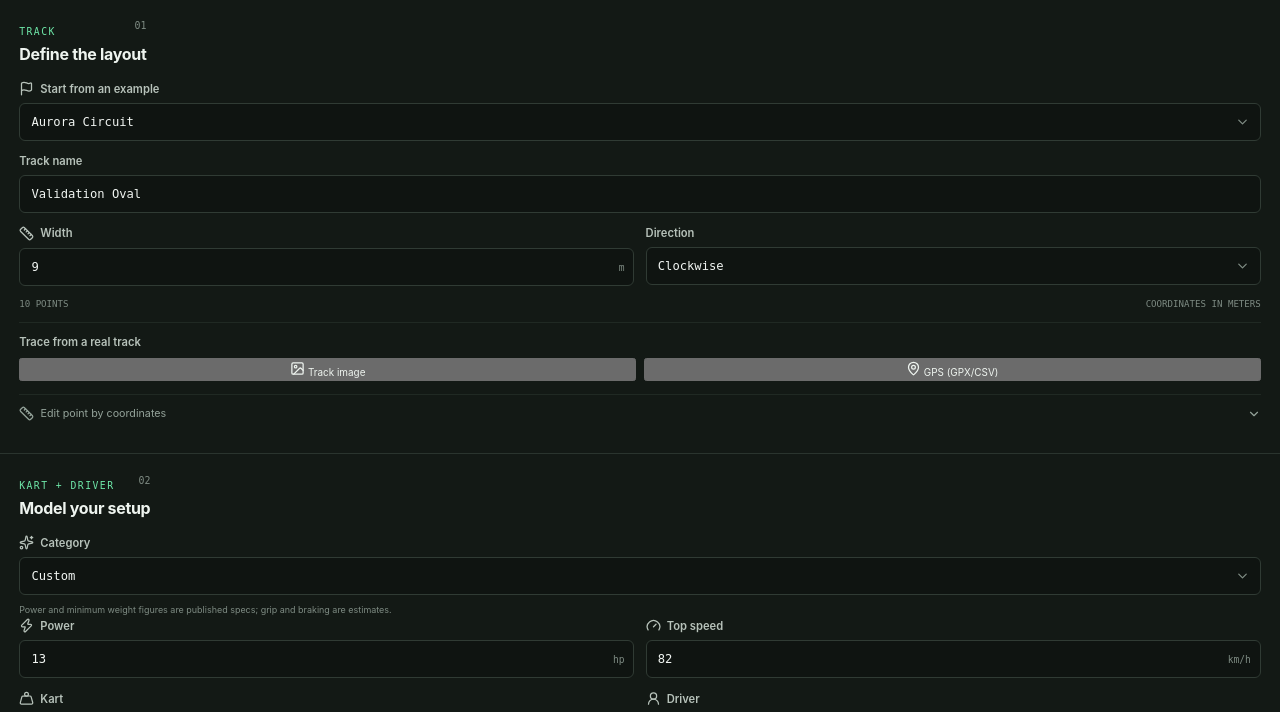
it: the keyboard point editor › walks the centreline with the arrows, and the fields follow
Click the heading "Edit point by coordinates": (103, 414) x1=19 y1=406 x2=1261 y2=421
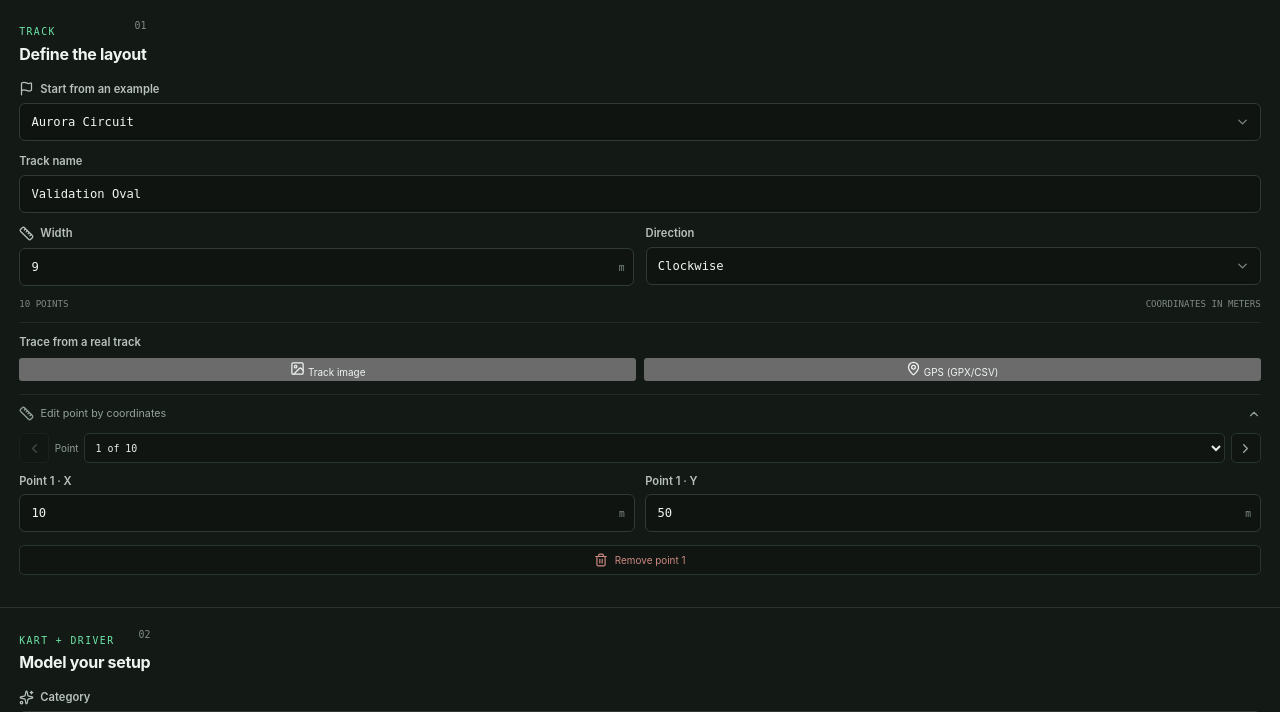
expect the dropdown with id "control-point" shows "1 of 10": met, box x1=84 y1=433 x2=1225 y2=463
Click the button named "next point": (1246, 448) x1=1231 y1=433 x2=1261 y2=463
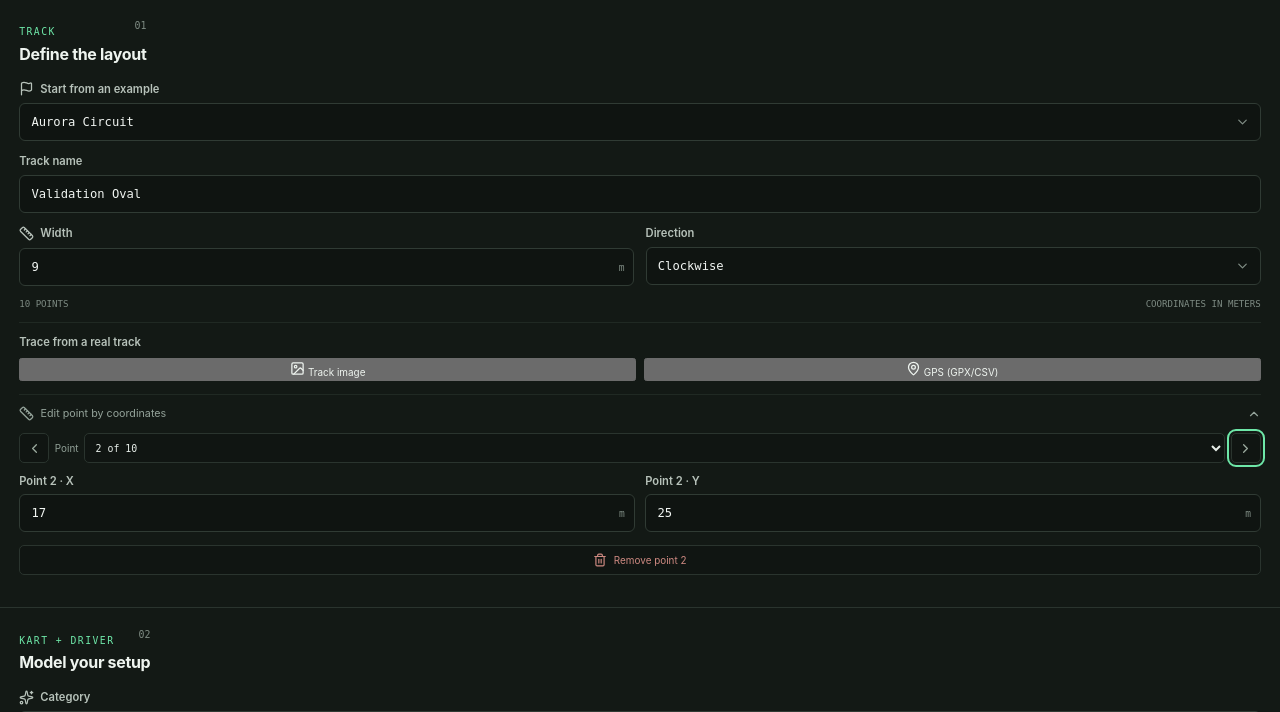
expect the dropdown with id "control-point" shows "2 of 10": met, box x1=84 y1=433 x2=1225 y2=463
expect the number field labelled "Point 2 · X m" holds "17": met, box x1=19 y1=494 x2=635 y2=532
expect the number field labelled "Point 2 · Y m" holds "25": met, box x1=645 y1=494 x2=1261 y2=532
Click the button named "previous point": (34, 448) x1=19 y1=433 x2=49 y2=463
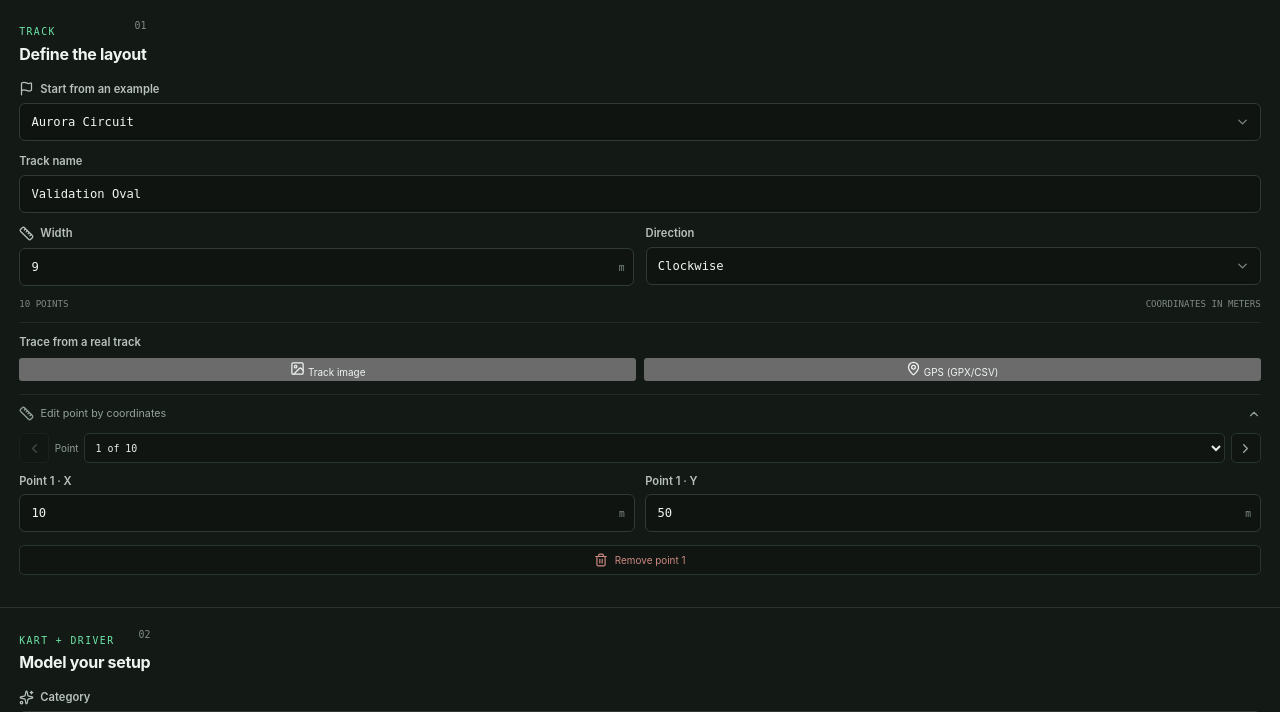
expect the dropdown with id "control-point" shows "1 of 10": met, box x1=84 y1=433 x2=1225 y2=463
expect the number field labelled "Point 1 · X m" holds "10": met, box x1=19 y1=494 x2=635 y2=532
